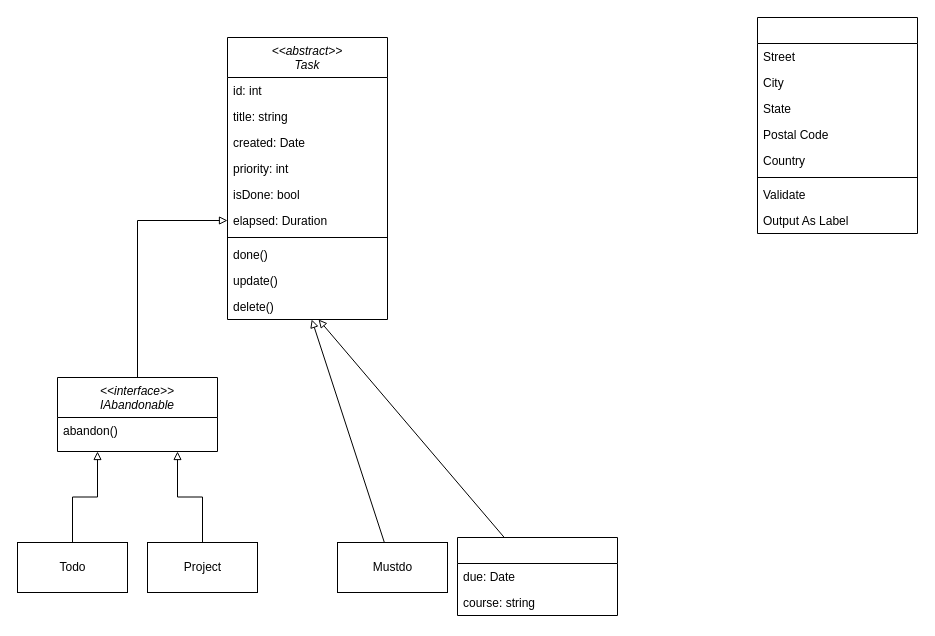
Image size: 935x636. Some labels were removed from this diagram. The shapes that lost their labels are listed below. From the top down, each one's box as (x1, y1, x2, y2) in pixels, then its label:
(756, 16, 918, 234): Address
(456, 536, 618, 616): Assignment
